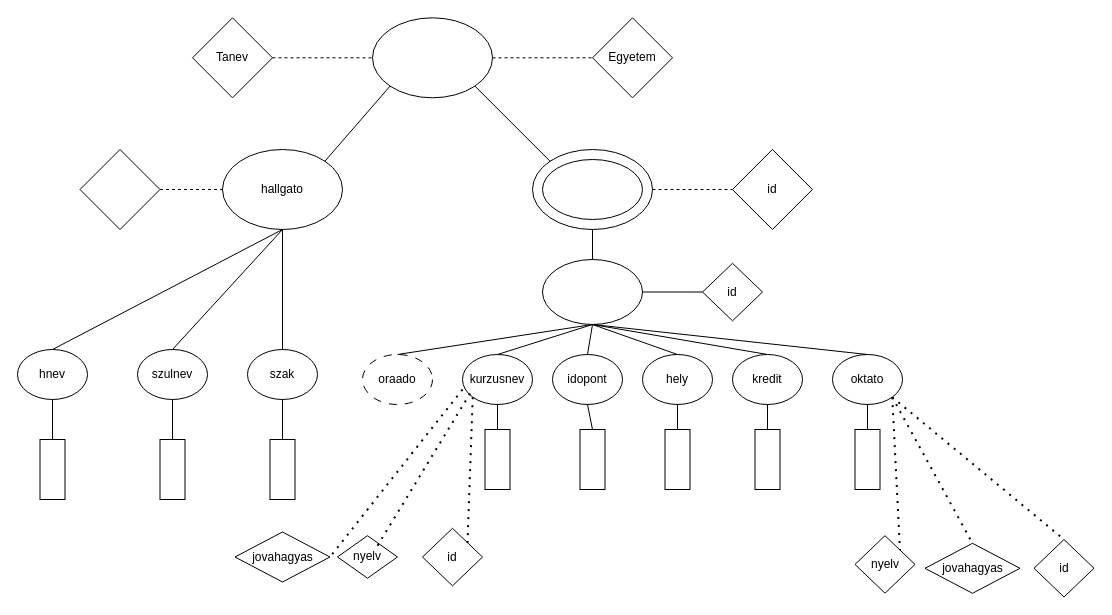
The diagram is 1112 pixels wide and 615 high, and some of its shapes have lost their labels. Each missing label, with the centre of its shape:
"evf" goes at [119,189].
"kurzus" goes at [592,291].
"Kurzusfelvetel" goes at [432,57].
"kurzusok" goes at [592,189].
